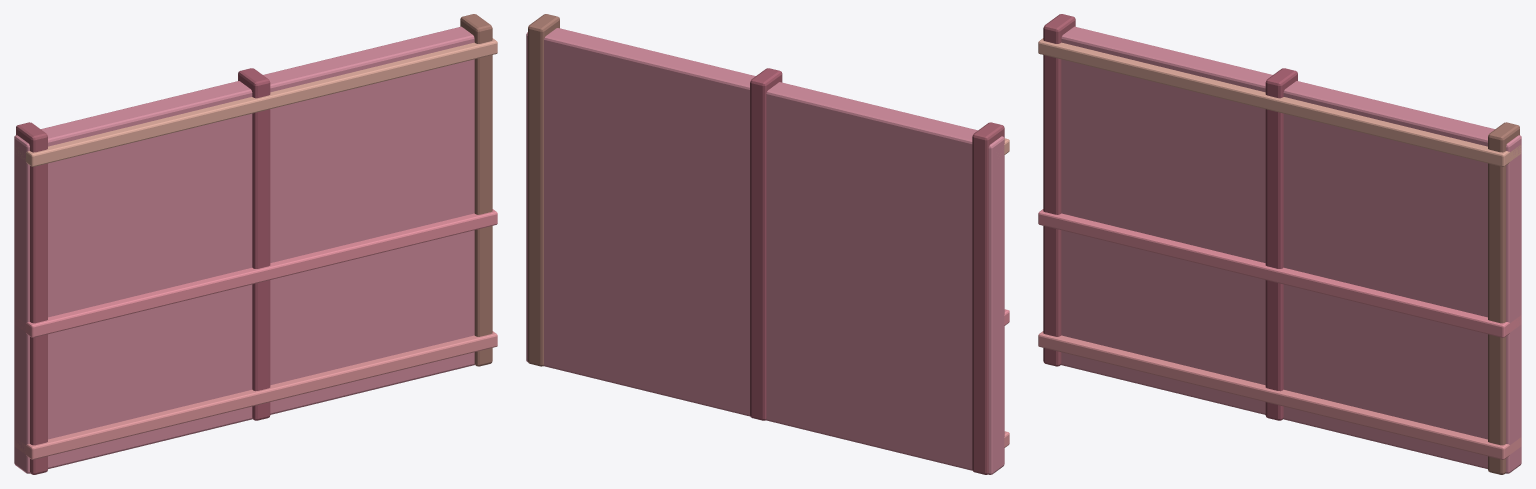
Rendered from WC_RIVER_Wall_Plain_A.glb.
The picture shows the model from 3 angles, left to right: view 1: azimuth 30°, elevation 25°; view 2: azimuth 150°, elevation 25°; view 3: azimuth 330°, elevation 25°; orthographic projection.
Visible parts, largest first — view 1: WC_RIVER_Wall_Plain_A_RenderMesh; view 2: WC_RIVER_Wall_Plain_A_RenderMesh; view 3: WC_RIVER_Wall_Plain_A_RenderMesh.
Part boxes in pixels (x1,y1,x2,y2): WC_RIVER_Wall_Plain_A_RenderMesh: (14, 14, 497, 474); WC_RIVER_Wall_Plain_A_RenderMesh: (526, 14, 1009, 474); WC_RIVER_Wall_Plain_A_RenderMesh: (1038, 14, 1521, 474).
Size of the model in its own units: 3.4 by 2.36 by 0.255.
